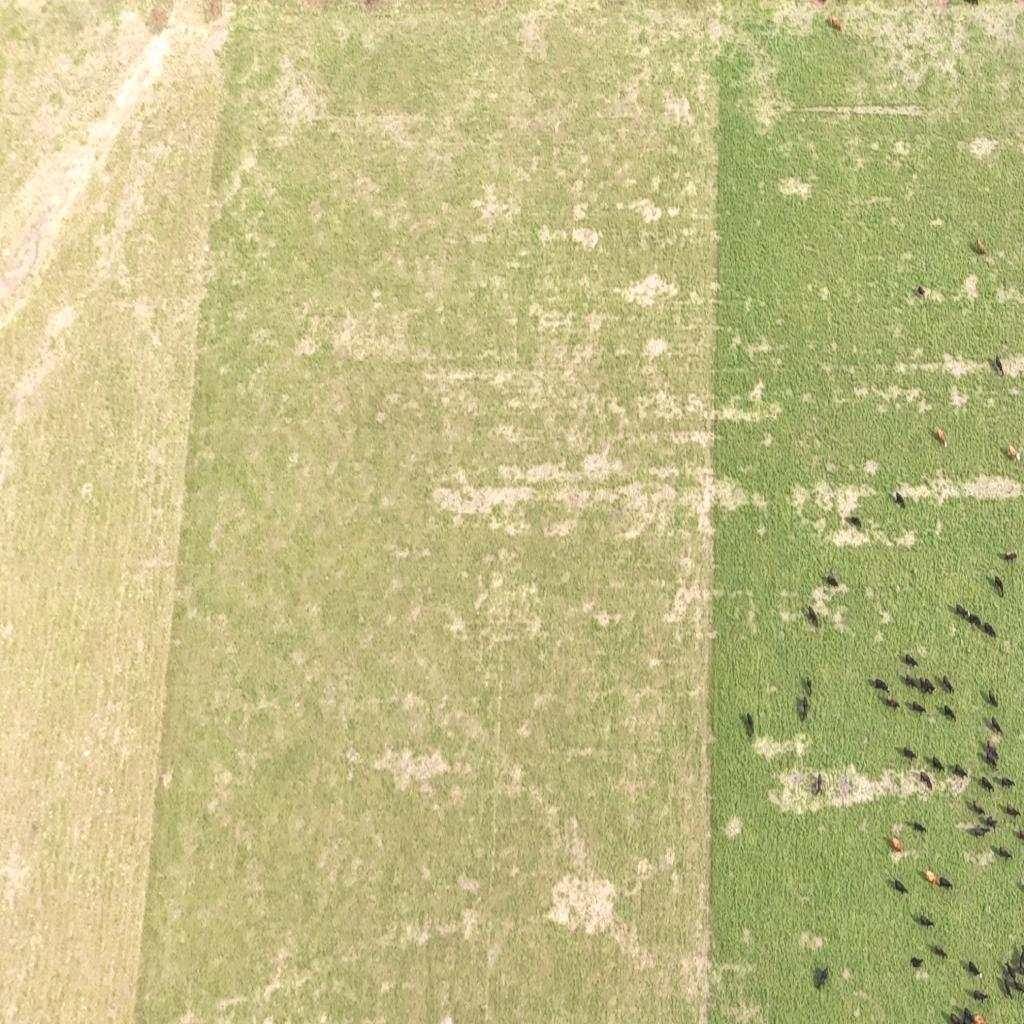cow: (812, 772, 824, 796), (806, 606, 819, 628), (1006, 442, 1020, 462), (816, 967, 828, 990), (930, 756, 945, 774), (994, 354, 1006, 376), (992, 575, 1004, 597), (746, 708, 756, 734), (798, 696, 808, 722), (919, 677, 932, 697), (918, 912, 934, 928), (952, 763, 968, 779), (924, 870, 940, 886), (894, 878, 908, 896), (971, 988, 989, 1002), (918, 772, 932, 790), (908, 700, 926, 714), (984, 740, 998, 758), (941, 675, 954, 694), (986, 752, 999, 771), (990, 716, 1002, 736), (904, 653, 919, 669), (934, 430, 946, 450), (998, 776, 1016, 789), (849, 514, 863, 530), (967, 960, 981, 976), (932, 945, 948, 959), (982, 622, 996, 638), (942, 705, 956, 721), (996, 846, 1012, 860), (962, 1007, 976, 1023), (954, 604, 968, 620), (980, 776, 994, 792), (1004, 804, 1020, 818), (974, 826, 990, 840), (968, 613, 982, 629), (904, 674, 918, 690), (974, 237, 986, 255), (890, 836, 902, 854), (972, 801, 985, 817), (988, 688, 998, 708), (824, 573, 838, 587), (912, 820, 926, 834), (939, 876, 953, 890), (886, 695, 900, 709), (902, 746, 916, 760), (874, 678, 888, 692), (984, 815, 998, 829), (1017, 946, 1024, 974), (894, 492, 906, 508), (830, 15, 842, 31), (1004, 978, 1012, 1002), (1004, 962, 1016, 977), (910, 956, 924, 968), (914, 284, 926, 298), (948, 1012, 962, 1024), (1004, 550, 1018, 562), (804, 678, 812, 698), (1014, 828, 1024, 844), (1014, 980, 1024, 994), (973, 1014, 987, 1024), (925, 678, 936, 690)
